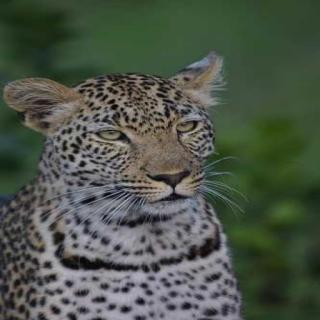Leopard: (3, 52, 247, 264)
